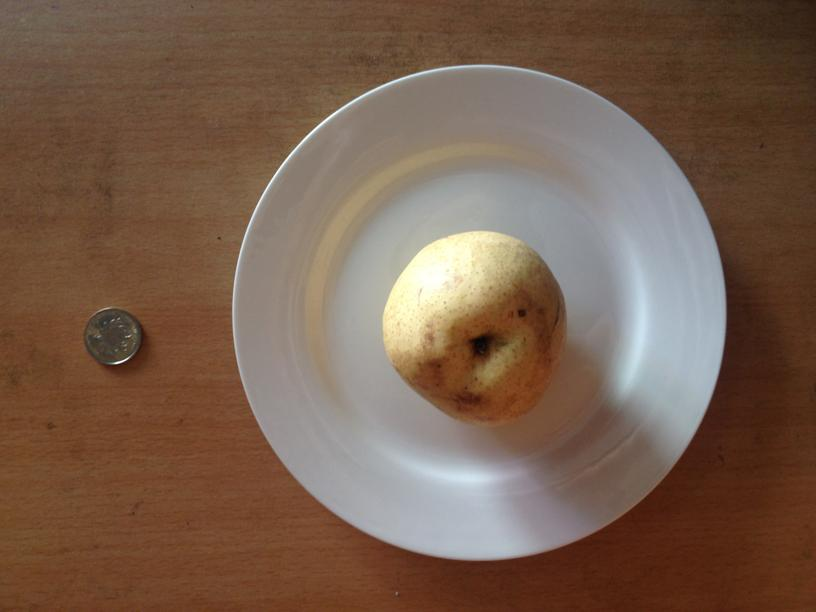coin: (83, 303, 142, 368)
pear: (383, 227, 566, 423)
